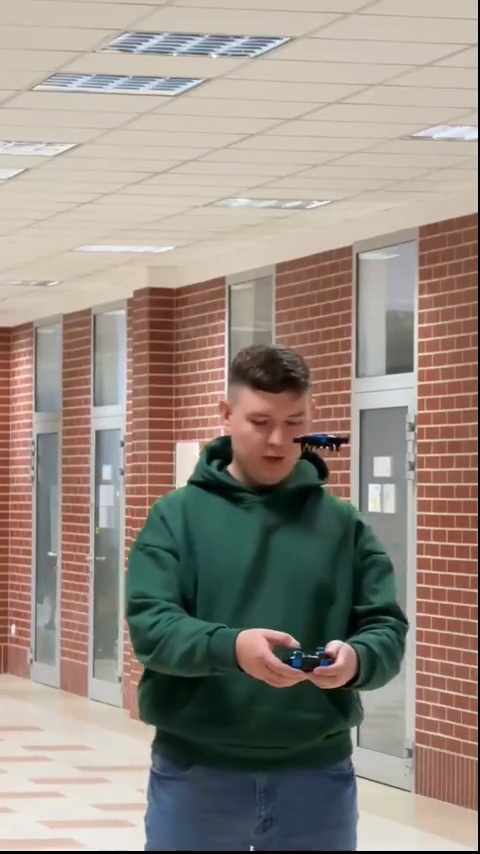drone: (296, 426, 351, 458)
no vest: (127, 345, 406, 854)
